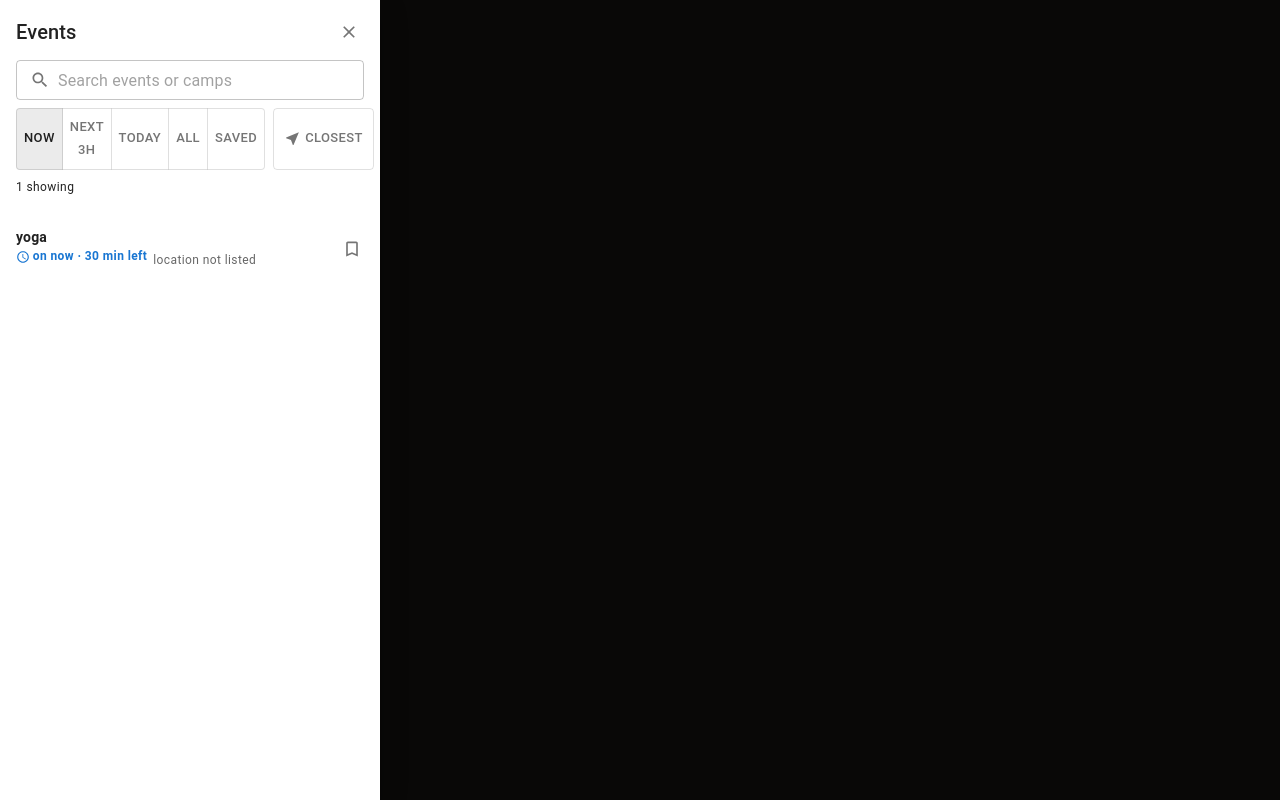
EventsPanel · location failure for "Closest" › shows "finding you…" rather than a terminal error while still locating
The width and height of the screenshot is (1280, 800).
Click the button "Closest" at (324, 139), box [273,108,374,170]
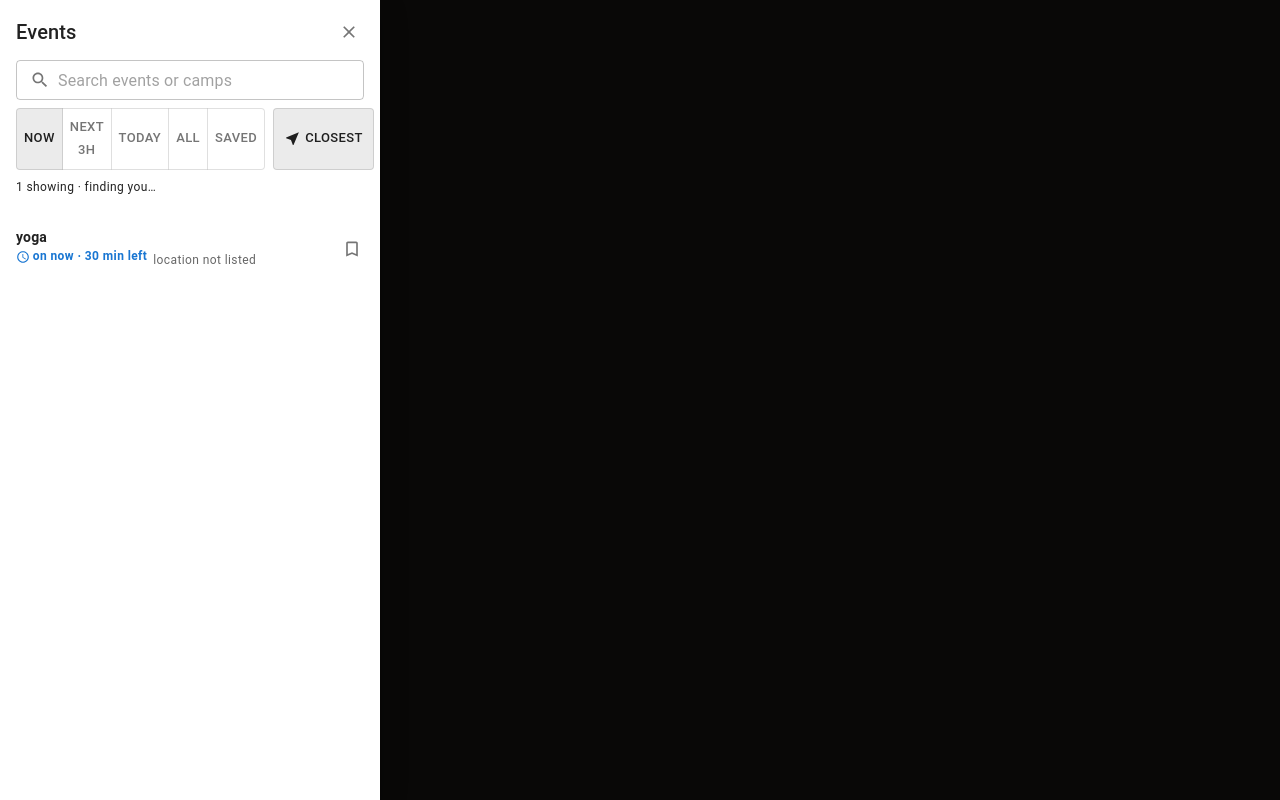
Expected: the text "1 showing · finding you…" is shown, [16,180,156,194]
